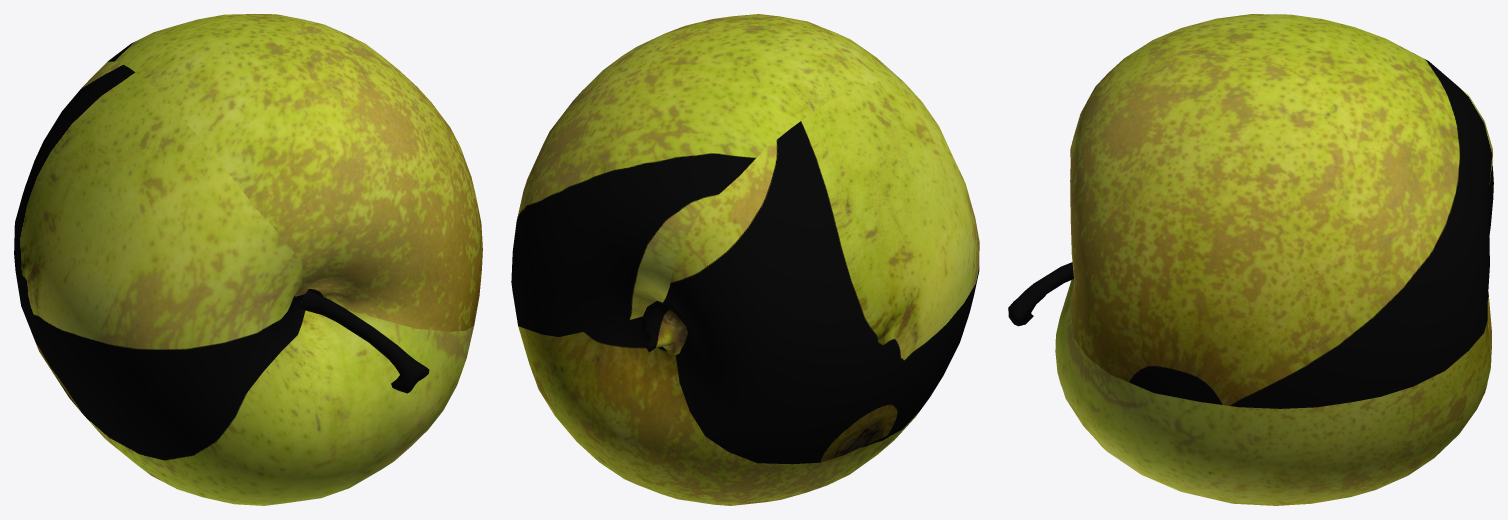
3 renders of one model, left to right at view 1: azimuth 30°, elevation 25°; view 2: azimuth 150°, elevation 25°; view 3: azimuth 270°, elevation 25°, orthographic. The views are drawn at different scales.
Bounding box in the file's own units: 0.9294 × 1 × 0.968.
